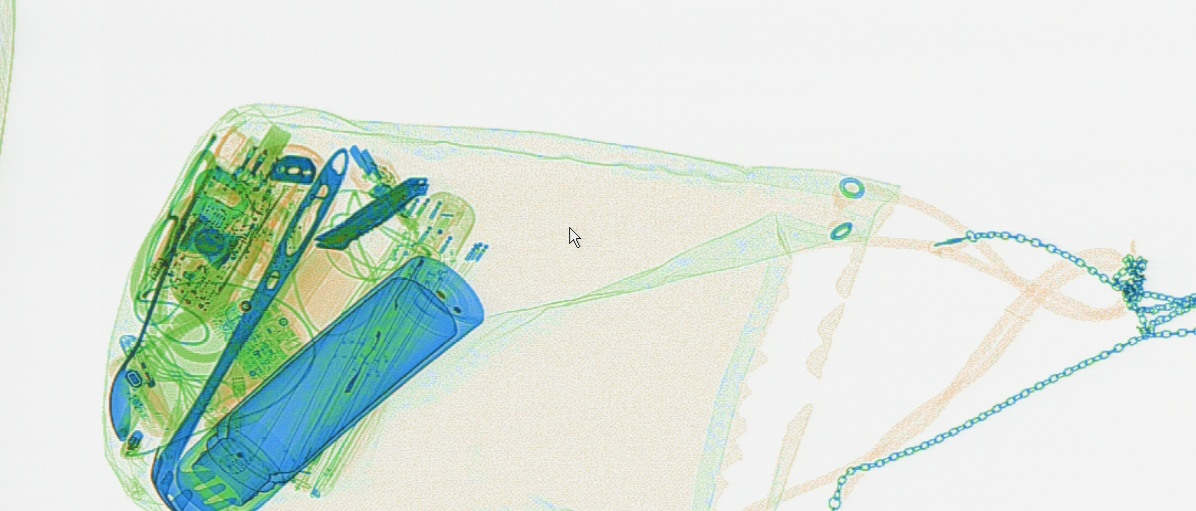knife: (313, 172, 429, 248)
lighter: (116, 333, 175, 433)
